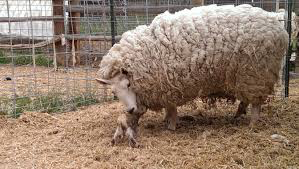koyun: (95, 6, 288, 128)
